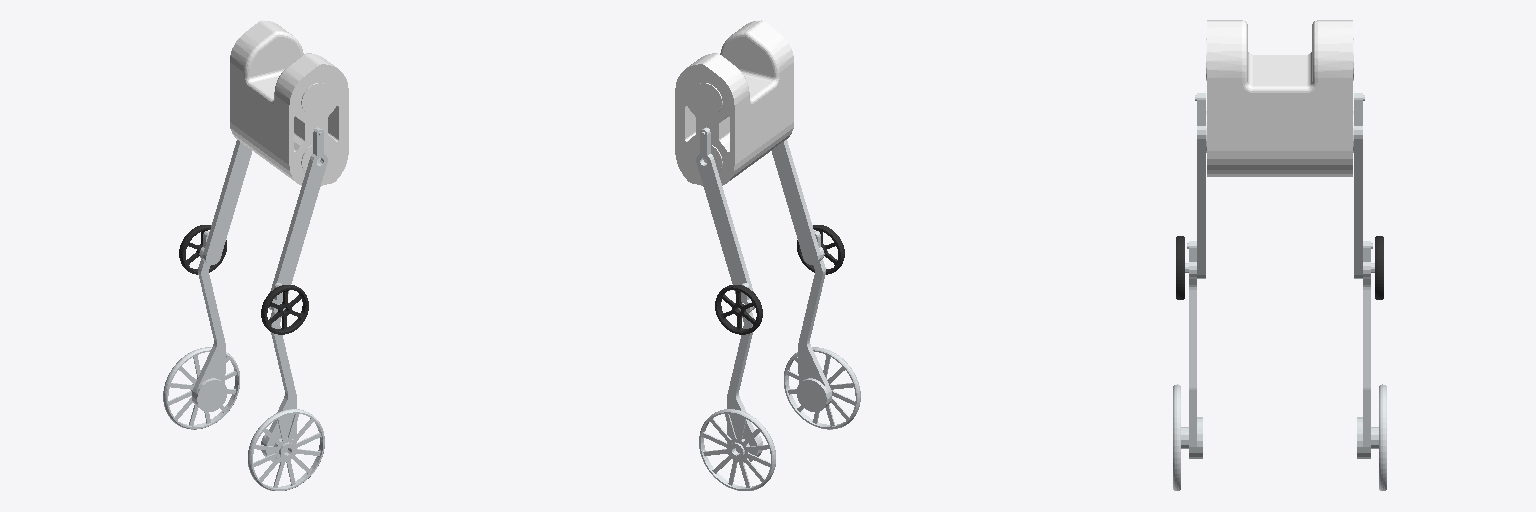
URDF robot description (nezha2):
<?xml version="1.0" encoding="utf-8"?>
<!-- This URDF was automatically created by SolidWorks to URDF Exporter! Originally created by [author] ([email redacted]) 
     Commit Version: 1.6.0-4-g7f85cfe  Build Version: 1.6.7995.38578
     For more information, please see http://wiki.ros.org/sw_urdf_exporter -->
<robot
  name="nezha2">
  <link
    name="body_link">
    <inertial>
      <origin
        xyz="0.00861107292632947 0.0601985580312706 3.68519881522535E-18"
        rpy="0 0 0" />
      <mass
        value="8.84912052358196" />
      <inertia
        ixx="0.11839754440781"
        ixy="-7.86447766553542E-05"
        ixz="1.03766899221711E-18"
        iyy="0.0785061693374521"
        iyz="8.98882500531903E-19"
        izz="0.0709199717887592" />
    </inertial>
    <visual>
      <origin
        xyz="0 0 0"
        rpy="0 0 0" />
      <geometry>
        <mesh
          filename="../meshes/body_link.STL" />
      </geometry>
      <material
        name="">
        <color
          rgba="1 1 1 1" />
      </material>
    </visual>
    <collision>
      <origin
        xyz="0 0 0"
        rpy="0 0 0" />
      <geometry>
        <mesh
          filename="../meshes/body_link.STL" />
      </geometry>
    </collision>
  </link>
  <link
    name="thigh_left_link">
    <inertial>
      <origin
        xyz="-0.16738 0.0011253 -0.0080663"
        rpy="0 0 0" />
      <mass
        value="0.70074" />
      <inertia
        ixx="0.00011936"
        ixy="-0.00017262"
        ixz="-6.787E-05"
        iyy="0.010501"
        iyz="-2.009E-07"
        izz="0.010578" />
    </inertial>
    <visual>
      <origin
        xyz="0 0 0"
        rpy="0 0 0" />
      <geometry>
        <mesh
          filename="../meshes/thigh_left_link.STL" />
      </geometry>
      <material
        name="">
        <color
          rgba="0.89804 0.91765 0.92941 1" />
      </material>
    </visual>
    <collision>
      <origin
        xyz="0 0 0"
        rpy="0 0 0" />
      <geometry>
        <mesh
          filename="../meshes/thigh_left_link.STL" />
      </geometry>
    </collision>
  </link>
  <joint
    name="hip_left_joint"
    type="continuous">
    <origin
      xyz="0 0.139 0"
      rpy="1.5708 -1.2472 0" />
    <parent
      link="body_link" />
    <child
      link="thigh_left_link" />
    <axis
      xyz="0 0 1" />
  </joint>
  <link
    name="shank_left_link">
    <inertial>
      <origin
        xyz="0.25492 0.0047934 -0.01633"
        rpy="0 0 0" />
      <mass
        value="0.82073" />
      <inertia
        ixx="0.00031782"
        ixy="-6.4921E-05"
        ixz="-9.5639E-05"
        iyy="0.013037"
        iyz="4.6018E-06"
        izz="0.013261" />
    </inertial>
    <visual>
      <origin
        xyz="0 0 0"
        rpy="0 0 0" />
      <geometry>
        <mesh
          filename="../meshes/shank_left_link.STL" />
      </geometry>
      <material
        name="">
        <color
          rgba="0.89804 0.91765 0.92941 1" />
      </material>
    </visual>
    <collision>
      <origin
        xyz="0 0 0"
        rpy="0 0 0" />
      <geometry>
        <mesh
          filename="../meshes/shank_left_link.STL" />
      </geometry>
    </collision>
  </link>
  <joint
    name="knee_left_joint"
    type="continuous">
    <origin
      xyz="-0.35 0 -0.005"
      rpy="0 0 -2.818" />
    <parent
      link="thigh_left_link" />
    <child
      link="shank_left_link" />
    <axis
      xyz="0 0 1" />
  </joint>
  <link
    name="wheel_left_link">
    <inertial>
      <origin
        xyz="2.7756E-17 -0.008 0"
        rpy="0 0 0" />
      <mass
        value="0.31422" />
      <inertia
        ixx="0.00097089"
        ixy="1.0411E-20"
        ixz="-1.3553E-19"
        iyy="0.0019336"
        iyz="-8.7642E-20"
        izz="0.00097089" />
    </inertial>
    <visual>
      <origin
        xyz="0 0 0"
        rpy="0 0 0" />
      <geometry>
        <mesh
          filename="../meshes/wheel_left_link.STL" />
      </geometry>
      <material
        name="">
        <color
          rgba="0.89804 0.91765 0.92941 1" />
      </material>
    </visual>
    <collision>
      <origin
        xyz="0 0 0"
        rpy="0 0 0" />
      <geometry>
        <mesh
          filename="../meshes/wheel_left_link.STL" />
      </geometry>
    </collision>
  </link>
  <joint
    name="wheel_left_motor_joint"
    type="continuous">
    <origin
      xyz="0.35 0 -0.04"
      rpy="1.5708 0 1.2483" />
    <parent
      link="shank_left_link" />
    <child
      link="wheel_left_link" />
    <axis
      xyz="0 1 0" />
  </joint>
  <link
    name="passiveWheel_left_link">
    <inertial>
      <origin
        xyz="2.9046E-14 0.041789 5.7787E-14"
        rpy="0 0 0" />
      <mass
        value="0.07922" />
      <inertia
        ixx="9.7648E-05"
        ixy="1.6189E-17"
        ixz="2.2363E-16"
        iyy="0.00019216"
        iyz="-1.6234E-17"
        izz="9.7648E-05" />
    </inertial>
    <visual>
      <origin
        xyz="0 0 0"
        rpy="0 0 0" />
      <geometry>
        <mesh
          filename="../meshes/passiveWheel_left_link.STL" />
      </geometry>
      <material
        name="">
        <color
          rgba="0.25098 0.25098 0.25098 1" />
      </material>
    </visual>
    <collision>
      <origin
        xyz="0 0 0"
        rpy="0 0 0" />
      <geometry>
        <mesh
          filename="../meshes/passiveWheel_left_link.STL" />
      </geometry>
    </collision>
  </link>
  <joint
    name="passiveWheel_left_joint"
    type="continuous">
    <origin
      xyz="-0.35 0 -0.005"
      rpy="-1.5708 0 1.8733" />
    <parent
      link="thigh_left_link" />
    <child
      link="passiveWheel_left_link" />
    <axis
      xyz="0 1 0" />
  </joint>
  <link
    name="thigh_right_link">
    <inertial>
      <origin
        xyz="-0.16738 0.0011253 0.0080663"
        rpy="0 0 0" />
      <mass
        value="0.70074" />
      <inertia
        ixx="0.00011936"
        ixy="-0.00017262"
        ixz="6.787E-05"
        iyy="0.010501"
        iyz="2.009E-07"
        izz="0.010578" />
    </inertial>
    <visual>
      <origin
        xyz="0 0 0"
        rpy="0 0 0" />
      <geometry>
        <mesh
          filename="../meshes/thigh_right_link.STL" />
      </geometry>
      <material
        name="">
        <color
          rgba="0.89804 0.91765 0.92941 1" />
      </material>
    </visual>
    <collision>
      <origin
        xyz="0 0 0"
        rpy="0 0 0" />
      <geometry>
        <mesh
          filename="../meshes/thigh_right_link.STL" />
      </geometry>
    </collision>
  </link>
  <joint
    name="hip_right_joint"
    type="continuous">
    <origin
      xyz="0 -0.139 0"
      rpy="1.5708 -1.2472 0" />
    <parent
      link="body_link" />
    <child
      link="thigh_right_link" />
    <axis
      xyz="0 0 1" />
  </joint>
  <link
    name="shank_right_link">
    <inertial>
      <origin
        xyz="0.25492 0.0047934 0.01633"
        rpy="0 0 0" />
      <mass
        value="0.82073" />
      <inertia
        ixx="0.00031782"
        ixy="-6.4921E-05"
        ixz="9.5639E-05"
        iyy="0.013037"
        iyz="-4.6018E-06"
        izz="0.013261" />
    </inertial>
    <visual>
      <origin
        xyz="0 0 0"
        rpy="0 0 0" />
      <geometry>
        <mesh
          filename="../meshes/shank_right_link.STL" />
      </geometry>
      <material
        name="">
        <color
          rgba="0.89804 0.91765 0.92941 1" />
      </material>
    </visual>
    <collision>
      <origin
        xyz="0 0 0"
        rpy="0 0 0" />
      <geometry>
        <mesh
          filename="../meshes/shank_right_link.STL" />
      </geometry>
    </collision>
  </link>
  <joint
    name="knee_right_joint"
    type="continuous">
    <origin
      xyz="-0.35 0 0.005"
      rpy="0 0 -2.818" />
    <parent
      link="thigh_right_link" />
    <child
      link="shank_right_link" />
    <axis
      xyz="0 0 1" />
  </joint>
  <link
    name="wheel_right_link">
    <inertial>
      <origin
        xyz="5.5511E-17 -0.008 1.1102E-16"
        rpy="0 0 0" />
      <mass
        value="0.31422" />
      <inertia
        ixx="0.00097089"
        ixy="-5.6809E-20"
        ixz="1.0842E-19"
        iyy="0.0019336"
        iyz="1.2174E-20"
        izz="0.00097089" />
    </inertial>
    <visual>
      <origin
        xyz="0 0 0"
        rpy="0 0 0" />
      <geometry>
        <mesh
          filename="../meshes/wheel_right_link.STL" />
      </geometry>
      <material
        name="">
        <color
          rgba="0.89804 0.91765 0.92941 1" />
      </material>
    </visual>
    <collision>
      <origin
        xyz="0 0 0"
        rpy="0 0 0" />
      <geometry>
        <mesh
          filename="../meshes/wheel_right_link.STL" />
      </geometry>
    </collision>
  </link>
  <joint
    name="wheel_right_motor_joint"
    type="continuous">
    <origin
      xyz="0.35 0 0.04"
      rpy="-1.5708 0 -1.8933" />
    <parent
      link="shank_right_link" />
    <child
      link="wheel_right_link" />
    <axis
      xyz="0 1 0" />
  </joint>
  <link
    name="passiveWheel_right_link">
    <inertial>
      <origin
        xyz="2.9018E-14 0.041789 5.9008E-14"
        rpy="0 0 0" />
      <mass
        value="0.07922" />
      <inertia
        ixx="9.7648E-05"
        ixy="1.6221E-17"
        ixz="2.2365E-16"
        iyy="0.00019216"
        iyz="-1.6234E-17"
        izz="9.7648E-05" />
    </inertial>
    <visual>
      <origin
        xyz="0 0 0"
        rpy="0 0 0" />
      <geometry>
        <mesh
          filename="../meshes/passiveWheel_right_link.STL" />
      </geometry>
      <material
        name="">
        <color
          rgba="0.25098 0.25098 0.25098 1" />
      </material>
    </visual>
    <collision>
      <origin
        xyz="0 0 0"
        rpy="0 0 0" />
      <geometry>
        <mesh
          filename="../meshes/passiveWheel_right_link.STL" />
      </geometry>
    </collision>
  </link>
  <joint
    name="passiveWheel_right_joint"
    type="continuous">
    <origin
      xyz="-0.35 0 0.005"
      rpy="1.5708 0 1.8733" />
    <parent
      link="thigh_right_link" />
    <child
      link="passiveWheel_right_link" />
    <axis
      xyz="0 1 0" />
  </joint>
</robot>

--- What the picture shows (computed from the rendered views, not written in the file) ---
The picture shows the robot from 3 angles, left to right: view 1: azimuth 30°, elevation 25°; view 2: azimuth 150°, elevation 25°; view 3: azimuth 270°, elevation 25°; orthographic projection.
Model nezha2 with 9 links and 8 joints (8 continuous), rooted at body_link, posed every joint at zero.
Visible links, largest first — view 1: body_link, wheel_right_link, thigh_right_link, shank_left_link, thigh_left_link, wheel_left_link, shank_right_link, passiveWheel_right_link, passiveWheel_left_link; view 2: body_link, wheel_left_link, thigh_left_link, shank_right_link, thigh_right_link, wheel_right_link, shank_left_link, passiveWheel_left_link, passiveWheel_right_link; view 3: body_link, shank_left_link, shank_right_link, thigh_left_link, thigh_right_link, wheel_left_link, wheel_right_link, passiveWheel_left_link, passiveWheel_right_link.
Link boxes in pixels (x1,y1,x2,y2): body_link: [230, 20, 348, 185]; wheel_right_link: [248, 409, 324, 490]; thigh_right_link: [269, 127, 327, 310]; shank_left_link: [192, 231, 227, 411]; thigh_left_link: [203, 140, 251, 264]; wheel_left_link: [163, 347, 239, 429]; shank_right_link: [261, 283, 296, 462]; passiveWheel_right_link: [261, 285, 308, 334]; passiveWheel_left_link: [179, 225, 226, 274]; body_link: [675, 20, 793, 185]; wheel_left_link: [699, 409, 775, 490]; thigh_left_link: [696, 127, 754, 310]; shank_right_link: [796, 231, 831, 411]; thigh_right_link: [772, 140, 820, 264]; wheel_right_link: [784, 347, 860, 429]; shank_left_link: [727, 283, 762, 462]; passiveWheel_left_link: [715, 285, 762, 334]; passiveWheel_right_link: [797, 225, 844, 274]; body_link: [1206, 20, 1353, 176]; shank_left_link: [1357, 241, 1378, 458]; shank_right_link: [1181, 241, 1202, 458]; thigh_left_link: [1354, 93, 1374, 278]; thigh_right_link: [1185, 93, 1205, 278]; wheel_left_link: [1379, 384, 1386, 490]; wheel_right_link: [1173, 384, 1180, 490]; passiveWheel_left_link: [1375, 236, 1383, 299]; passiveWheel_right_link: [1176, 236, 1184, 299].
Bounding box of the posed robot: 0.2963 × 0.4 × 1.02 m (x, y, z).
9 mesh visuals loaded from 9 distinct referenced files (9 binary STL).
